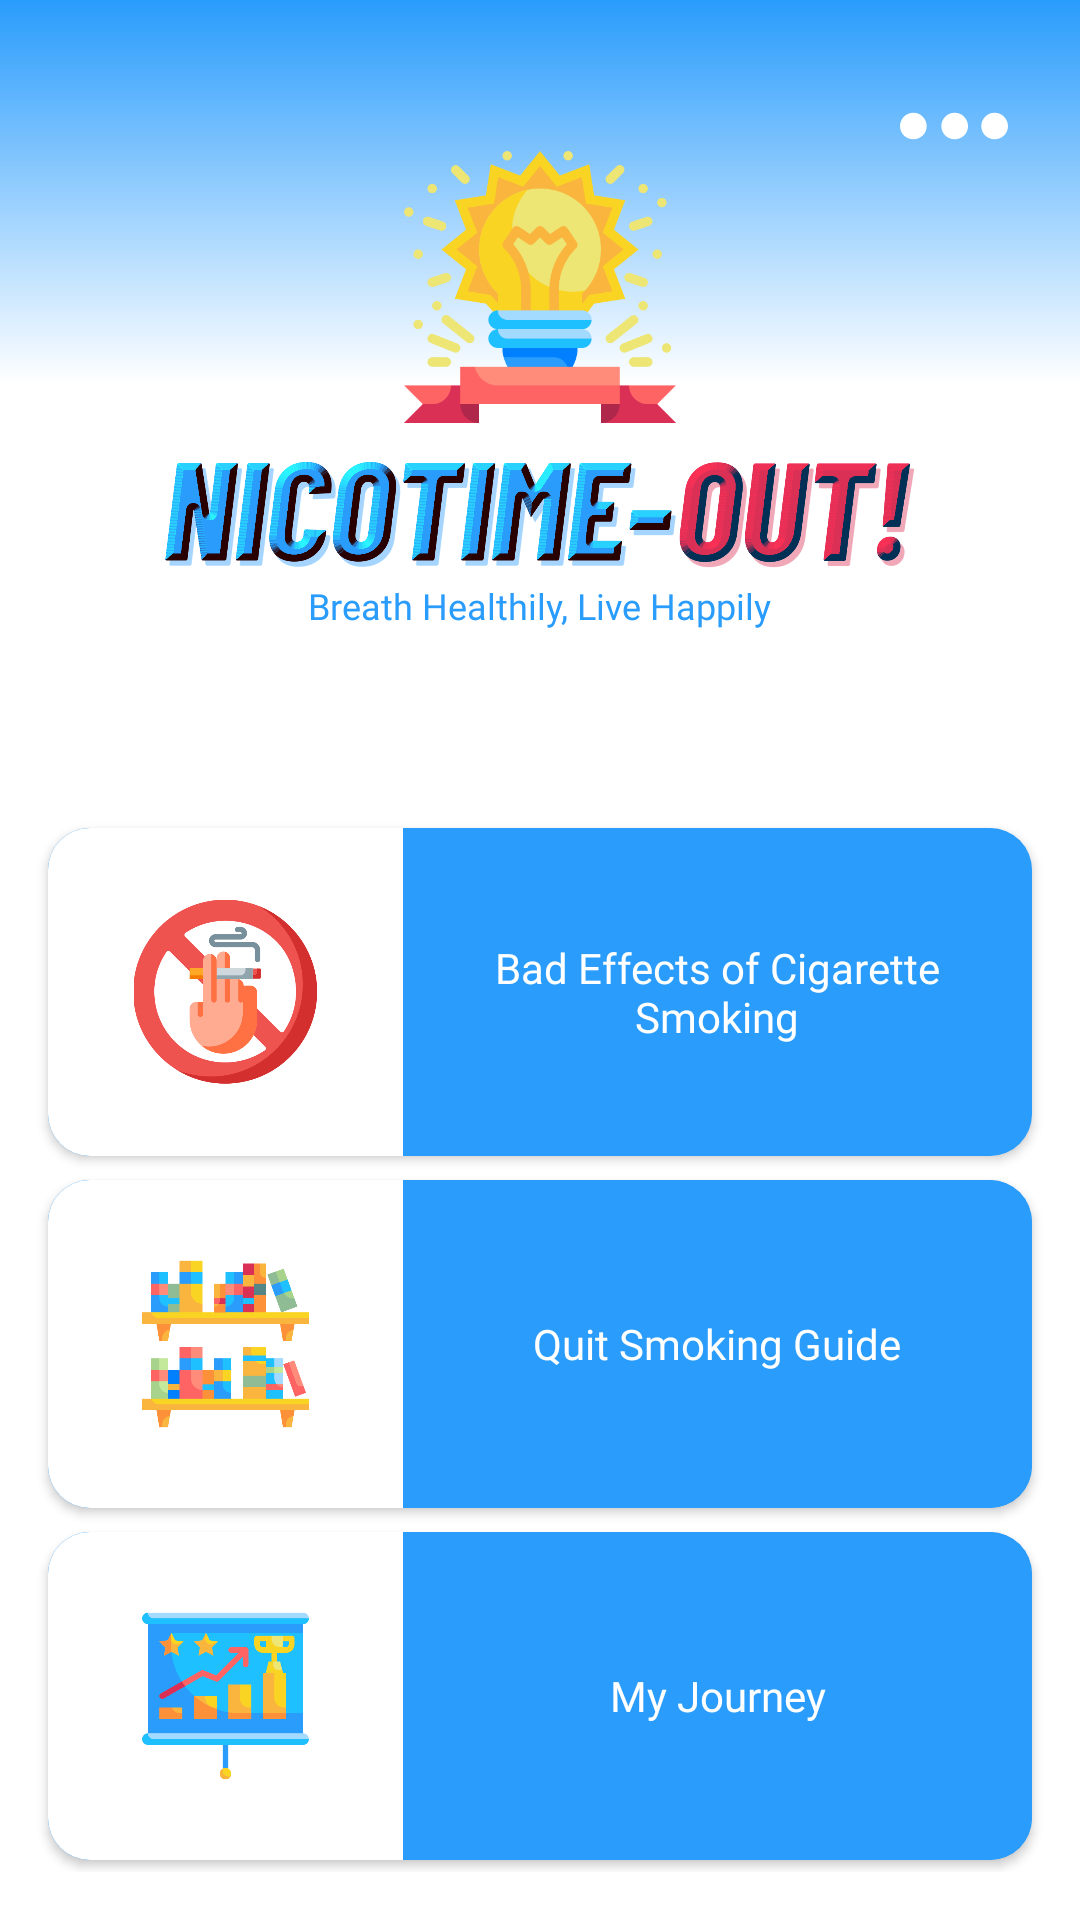

Icon click points for this 1080 x 1920 phone screenshot, format (x,y):
ac badeffects: (183,956)
ac guide: (180,1304)
ac progresstracker: (180,1656)
idea: (540,287)
third fragment threedots: (954,126)
